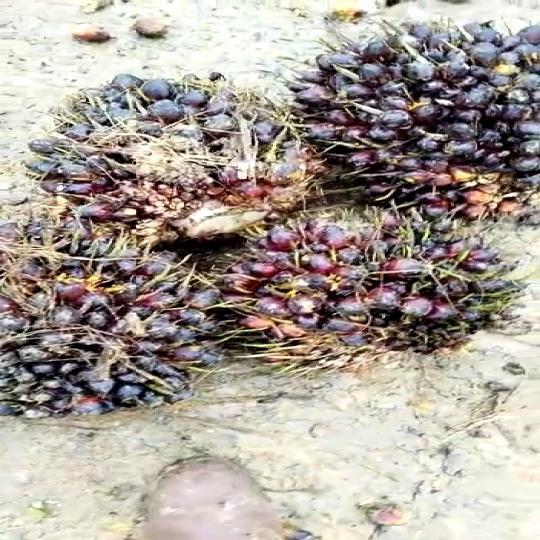kurang masak: (199, 187, 540, 367), (268, 4, 540, 218), (0, 216, 258, 427), (32, 72, 328, 236)
